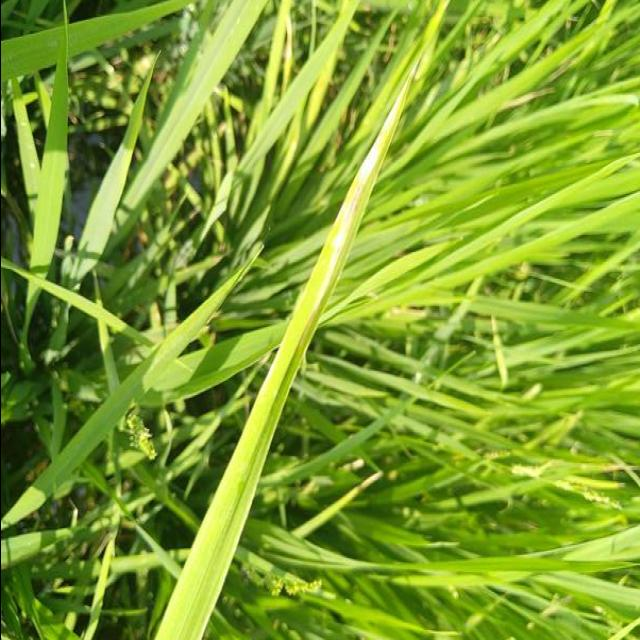Leaf Blight: (267, 68, 415, 421)
